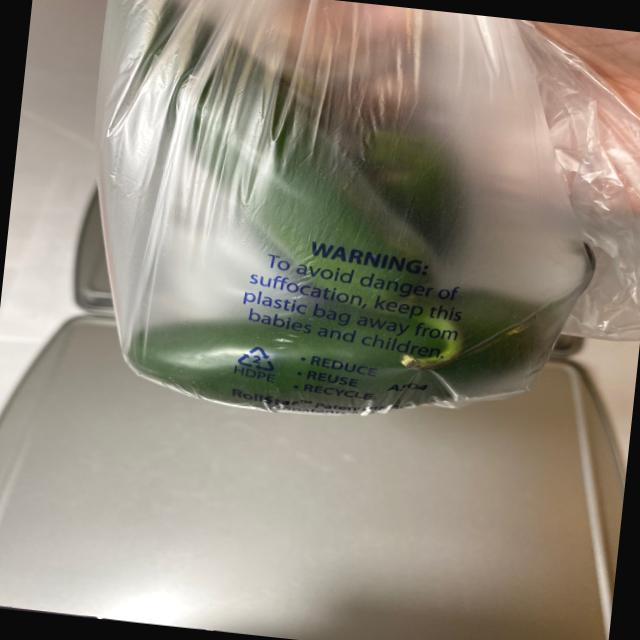chilli: (78, 0, 612, 428)
